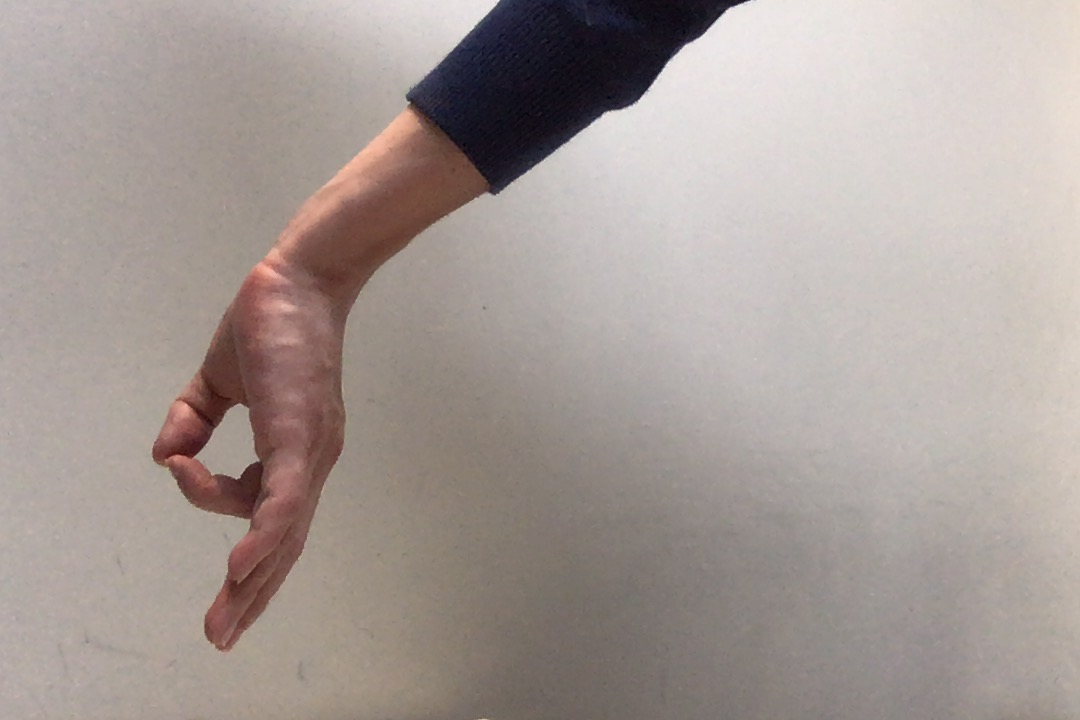oksign: (144, 249, 353, 658)
